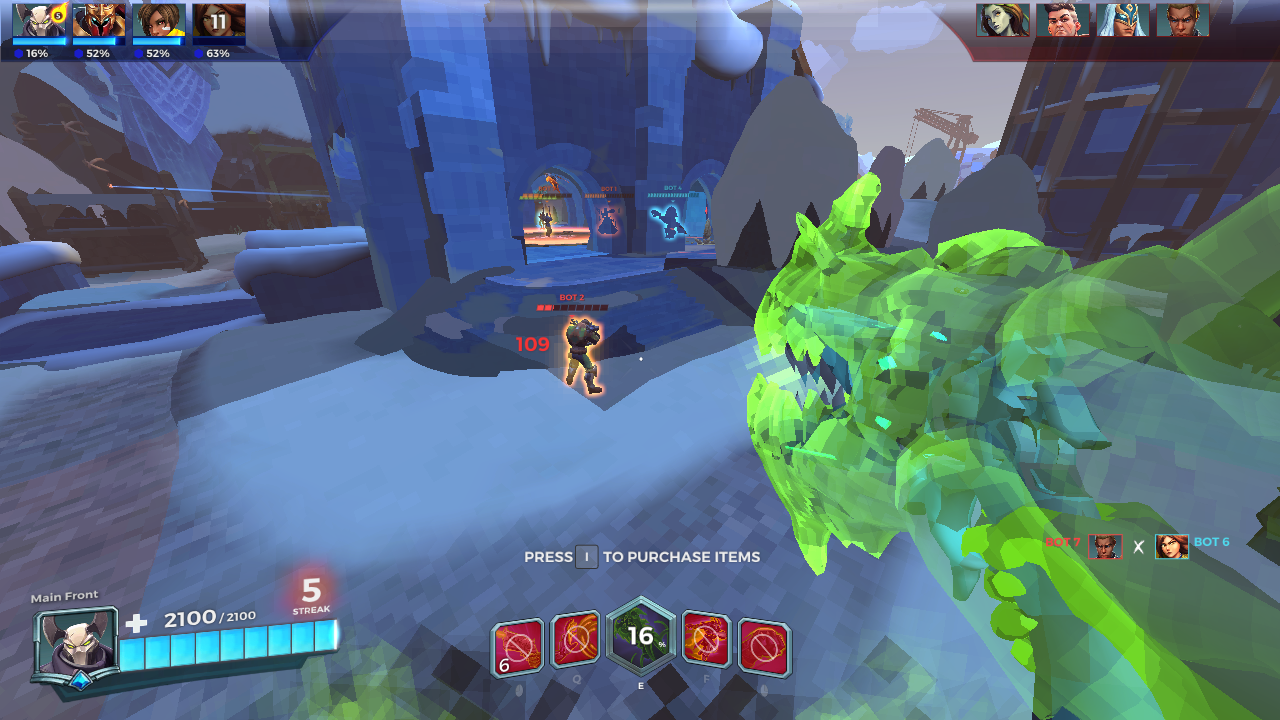model: (559, 313, 606, 400), (595, 203, 624, 242), (542, 214, 553, 232)
